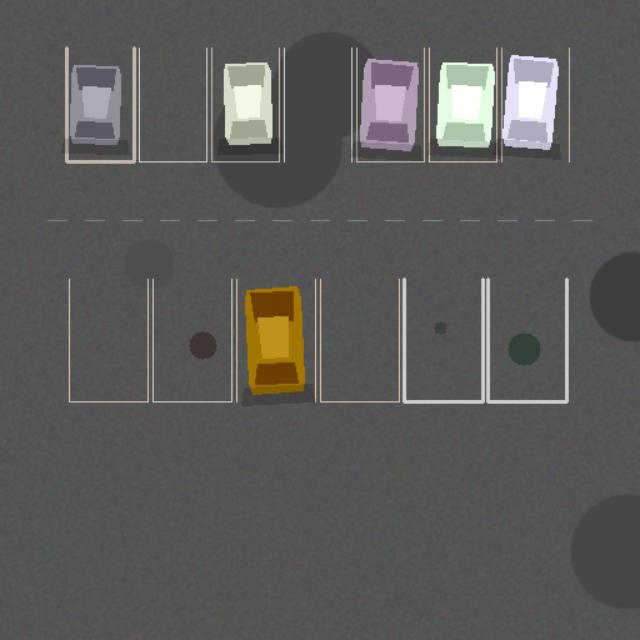space-empty: (320, 279, 399, 401), (404, 279, 483, 401), (487, 279, 566, 401), (69, 279, 147, 401), (153, 279, 231, 401), (139, 48, 206, 161), (284, 48, 351, 161)
space-occupied: (236, 279, 315, 401), (66, 48, 134, 161), (211, 48, 279, 161), (356, 48, 424, 161), (501, 48, 569, 161), (429, 48, 496, 161)
